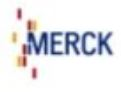Merck: (11, 6, 115, 82)
